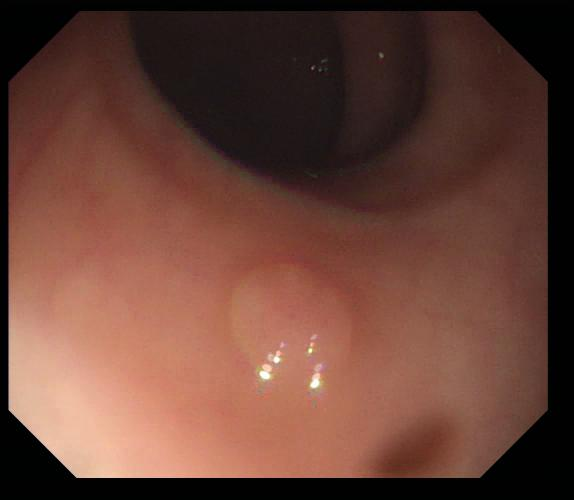polyp: (231, 263, 356, 397)
